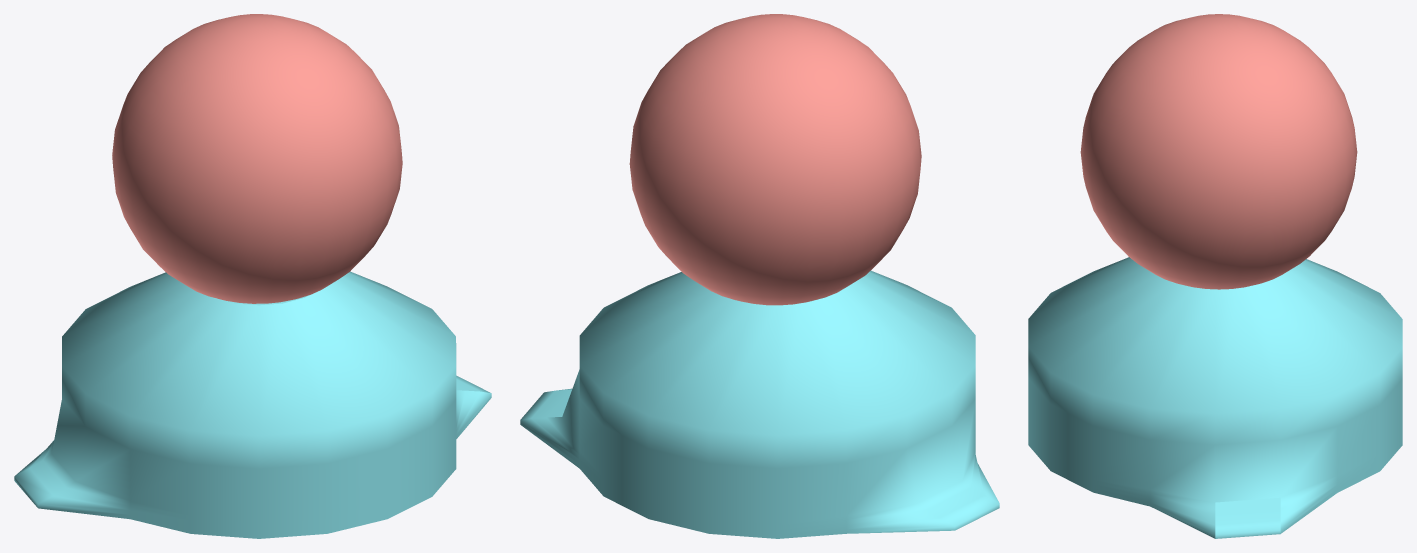
The model's file is pinbutt.FBX.
The picture shows the model from 3 angles, left to right: view 1: azimuth 30°, elevation 25°; view 2: azimuth 150°, elevation 25°; view 3: azimuth 270°, elevation 25°; orthographic projection. The views are drawn at different scales.
Parts seen in each view (by area): view 1: Sphere001; view 2: Sphere001; view 3: Sphere001.
Part boxes in pixels (left/top/right/bottom): Sphere001: left=14, top=14, right=491, bottom=538; Sphere001: left=520, top=14, right=999, bottom=538; Sphere001: left=1028, top=14, right=1402, bottom=538.
Bounding box in the file's own units: 92.12 × 82.63 × 69.35.
